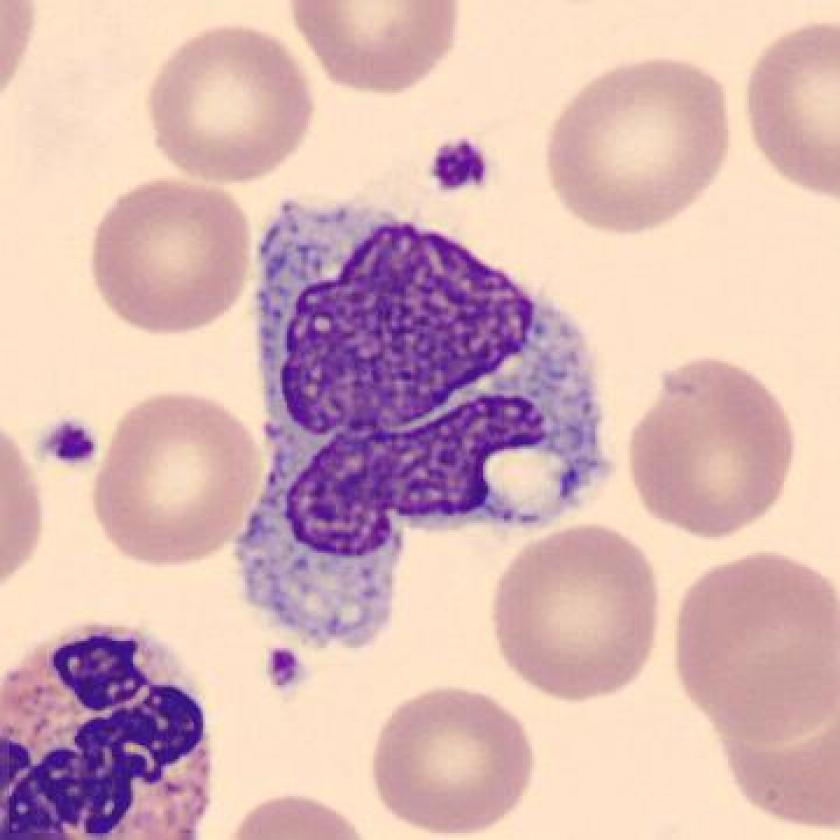monocyte: (216, 184, 626, 681)
